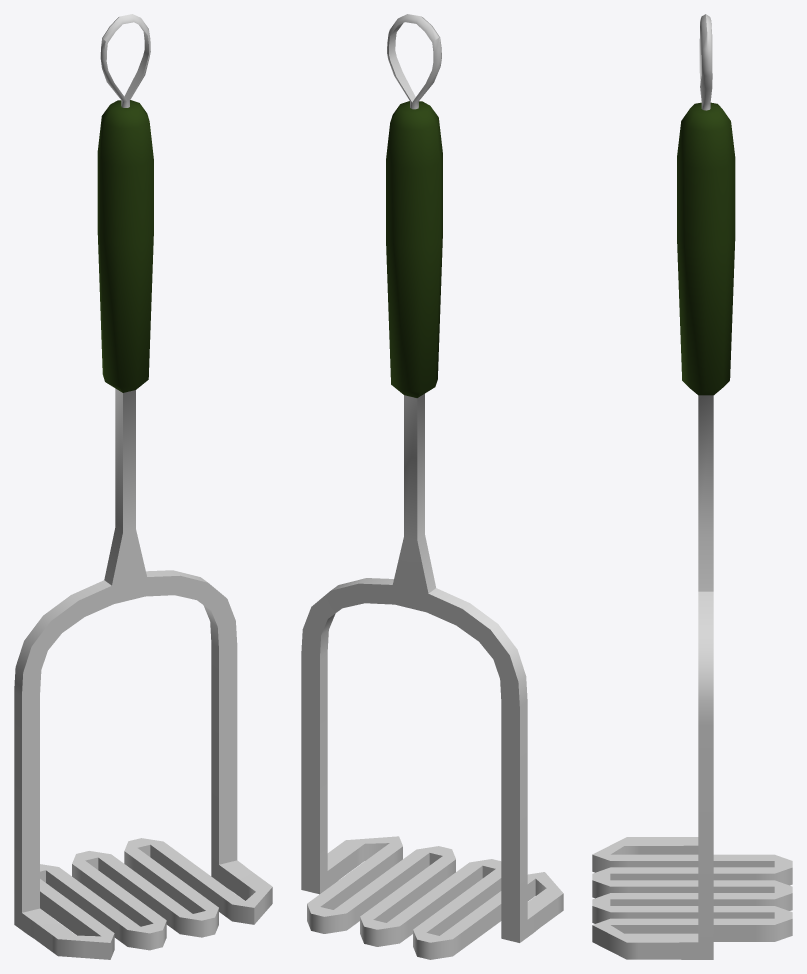
File: Potatisstöt.fbx
The picture shows the model from 3 angles, left to right: view 1: azimuth 30°, elevation 25°; view 2: azimuth 150°, elevation 25°; view 3: azimuth 270°, elevation 25°; orthographic projection.
Parts seen in each view (by area): view 1: file1; view 2: file1; view 3: file1.
Boxes of the visible parts, bbox=[...] form: file1: bbox=[14, 14, 272, 959]; file1: bbox=[301, 14, 563, 959]; file1: bbox=[592, 14, 792, 959].
Bounding box in the file's own units: 0.2543 × 1 × 0.2041.
